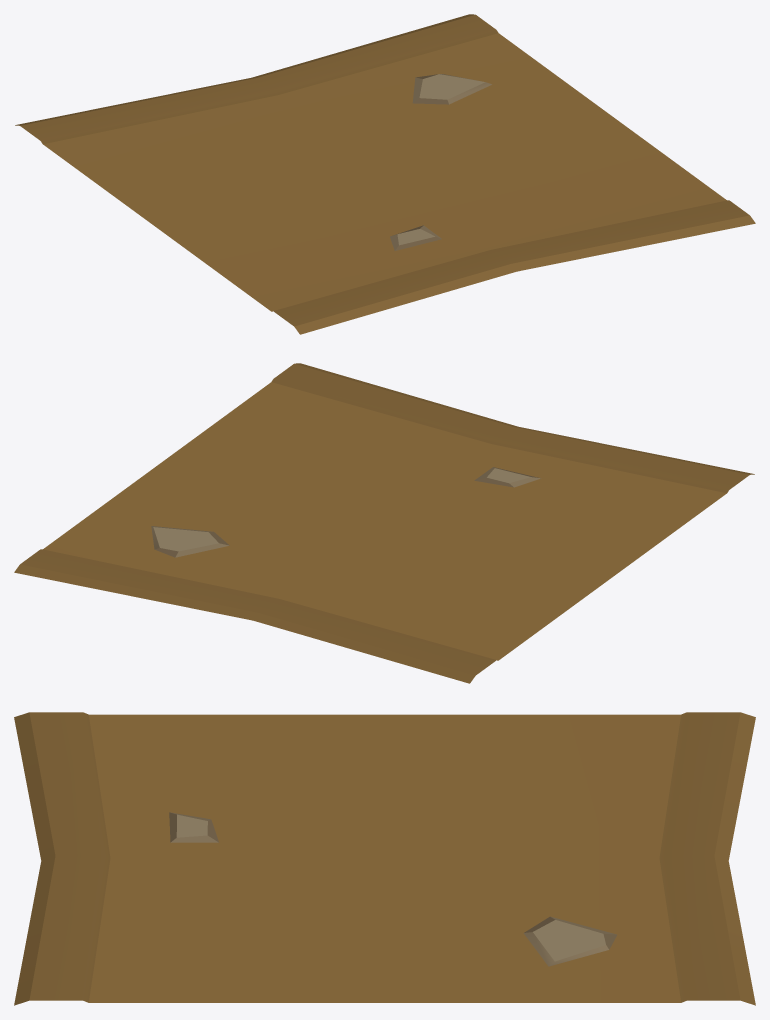
The model's file is Path_End_03.gltf.
The picture shows the model from 3 angles, top to bottom: view 1: azimuth 30°, elevation 25°; view 2: azimuth 150°, elevation 25°; view 3: azimuth 270°, elevation 25°; orthographic projection. The views are drawn at different scales.
Parts seen in each view (by area): view 1: SF_Env_Path_End_03; view 2: SF_Env_Path_End_03; view 3: SF_Env_Path_End_03.
Boxes of the visible parts, box(x1,y1,x2,y2) form: SF_Env_Path_End_03: box(15, 14, 755, 334); SF_Env_Path_End_03: box(14, 363, 754, 683); SF_Env_Path_End_03: box(14, 712, 755, 1005).
Bounding box in the file's own units: 0.0498 × 0.000405 × 0.0542.
1 material, 1 textured.
